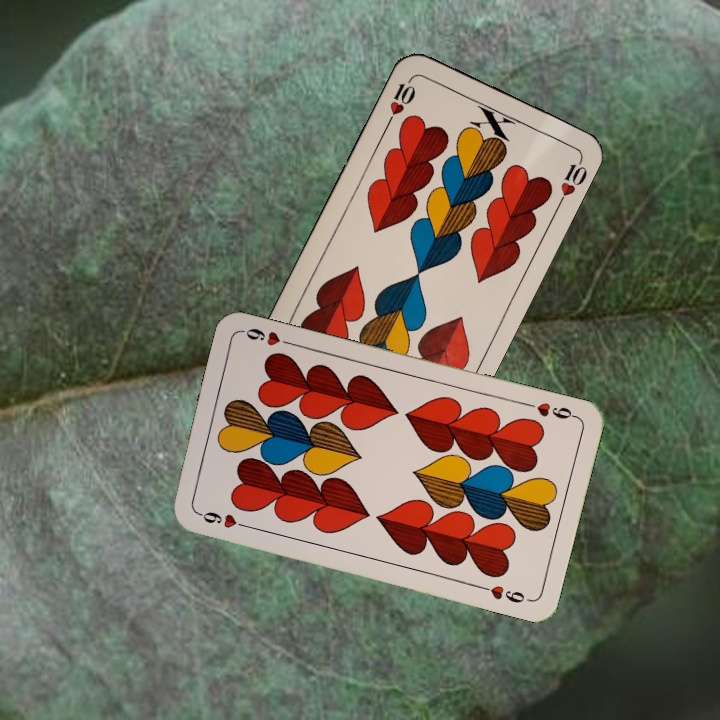H10: (383, 72, 418, 127)
H9: (193, 507, 252, 531), (521, 398, 579, 422)
